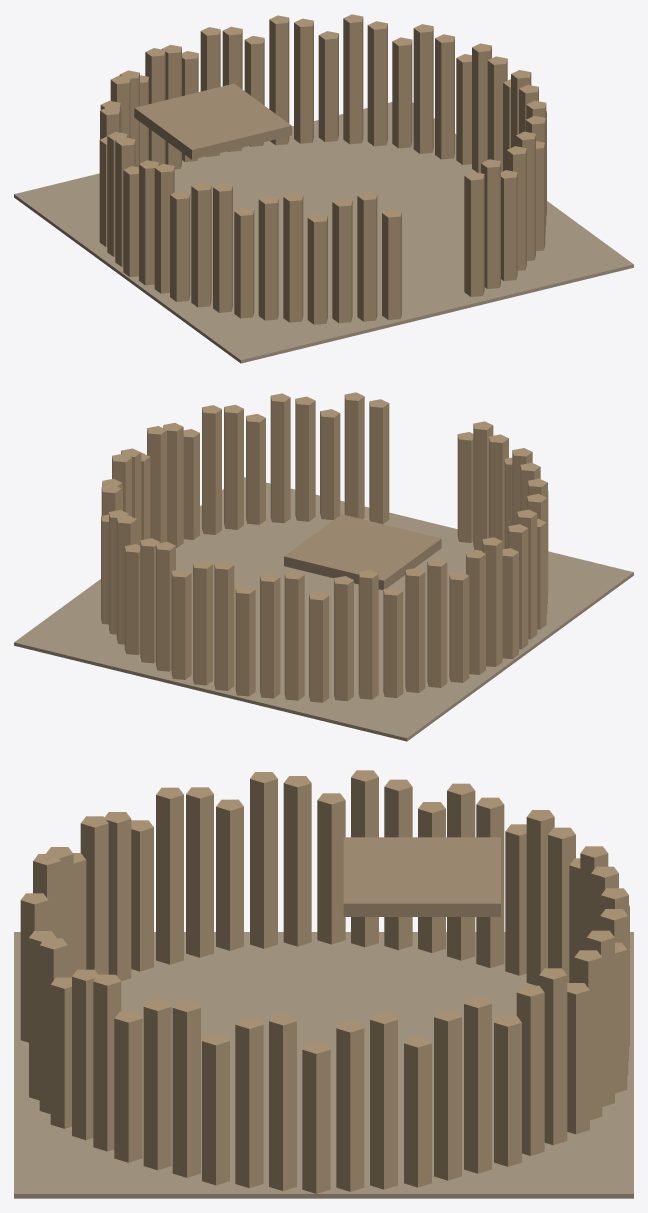
The picture shows the model from 3 angles, top to bottom: view 1: azimuth 30°, elevation 25°; view 2: azimuth 150°, elevation 25°; view 3: azimuth 270°, elevation 25°; orthographic projection. The views are drawn at different scales.
Parts seen in each view (by area): view 1: body; view 2: body; view 3: body.
Boxes of the visible parts, x1,y1,x2,y2 form: body: [14, 14, 633, 363]; body: [14, 392, 633, 741]; body: [14, 770, 633, 1198].
Bounding box in the file's own units: 12.6 × 3.82 × 12.6.
